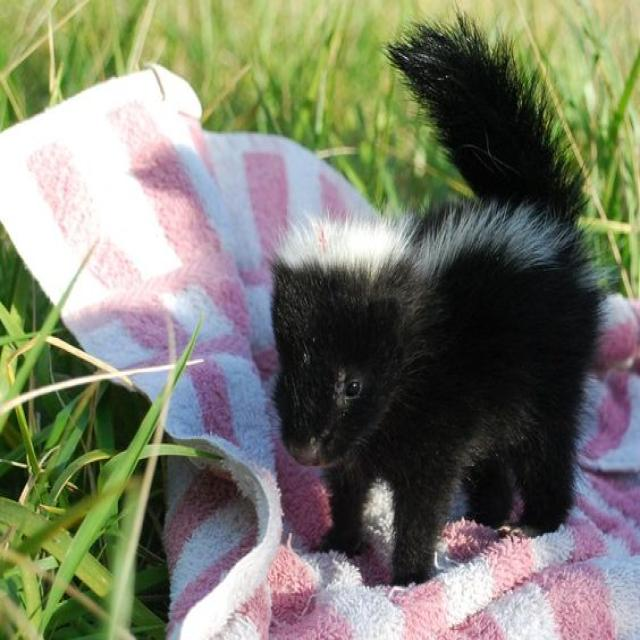Skunk: (264, 6, 617, 597)
